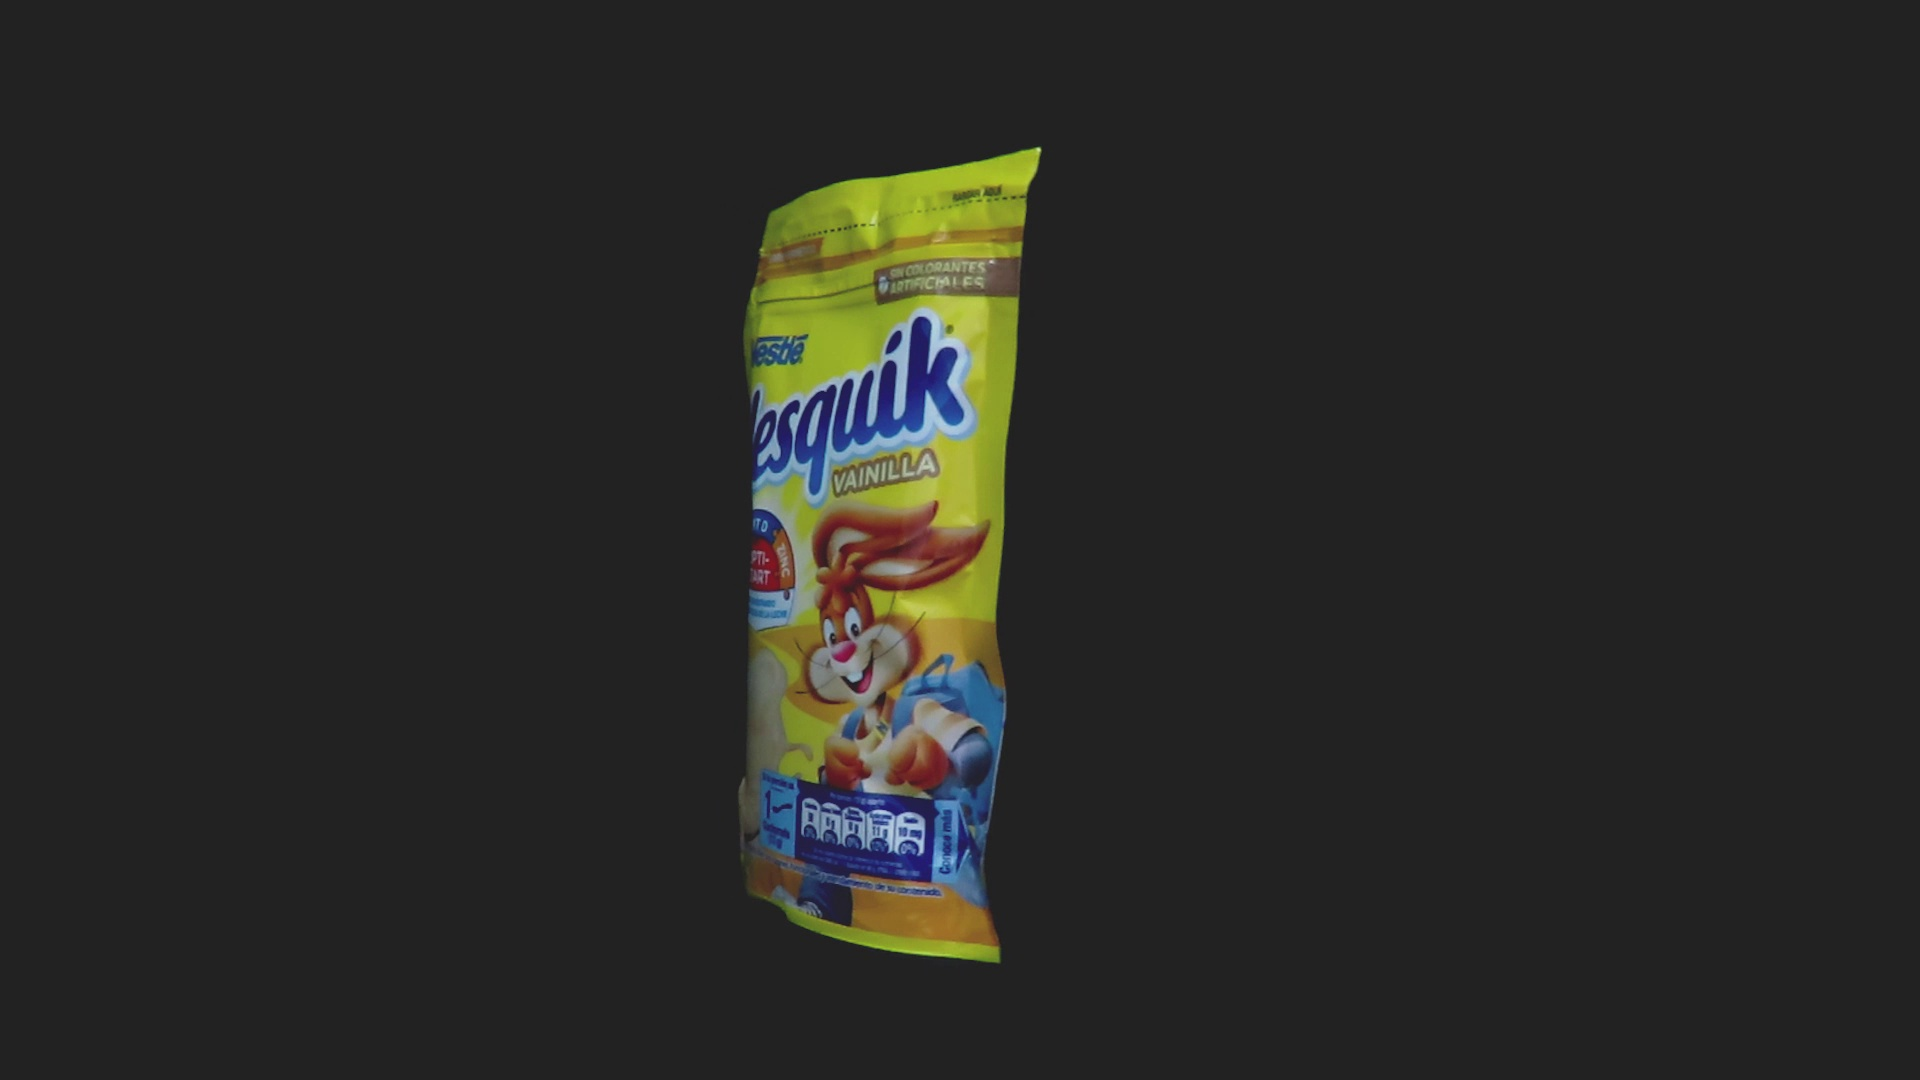COL0170306DYP20000: (733, 142, 1047, 969)
